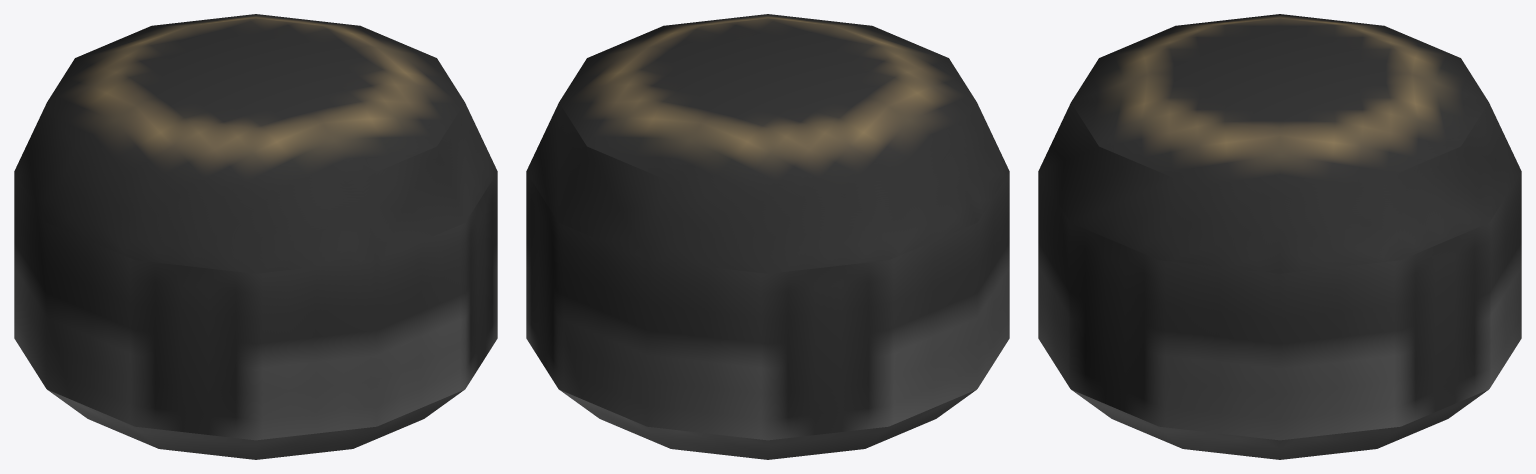
Rendered from male  probe tip.obj.
3 renders of one model, left to right at view 1: azimuth 30°, elevation 25°; view 2: azimuth 150°, elevation 25°; view 3: azimuth 270°, elevation 25°, orthographic.
Visible parts, largest first — view 1: SSVP_probe_Tip_ssvp_m_03; view 2: SSVP_probe_Tip_ssvp_m_03; view 3: SSVP_probe_Tip_ssvp_m_03.
Boxes of the visible parts, <box> form: SSVP_probe_Tip_ssvp_m_03: <box>14,14,497,459</box>; SSVP_probe_Tip_ssvp_m_03: <box>526,14,1009,459</box>; SSVP_probe_Tip_ssvp_m_03: <box>1038,14,1521,459</box>.
Size of the model in its own units: 0.0632 by 0.0439 by 0.0632.
1 material, 1 textured.
